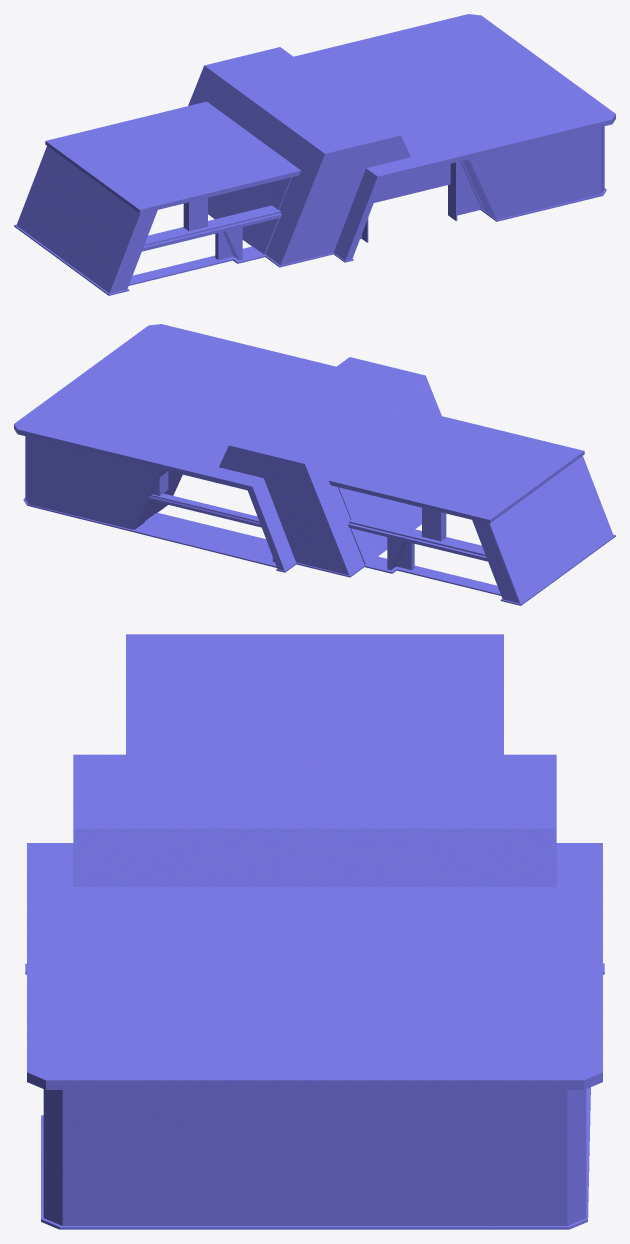
File: Building_SK_001_1st_L3.fbx
3 renders of one model, top to bottom at view 1: azimuth 30°, elevation 25°; view 2: azimuth 150°, elevation 25°; view 3: azimuth 270°, elevation 25°, orthographic. The views are drawn at different scales.
Visible parts, largest first — view 1: Building_SK_001_1st_L3; view 2: Building_SK_001_1st_L3; view 3: Building_SK_001_1st_L3.
Part boxes in pixels (x1=…): Building_SK_001_1st_L3: x1=14, y1=14, x2=615, y2=295; Building_SK_001_1st_L3: x1=14, y1=324, x2=615, y2=605; Building_SK_001_1st_L3: x1=25, y1=634, x2=604, y2=1229.
Bounding box in the file's own units: 77.65 × 15.52 × 39.98.
